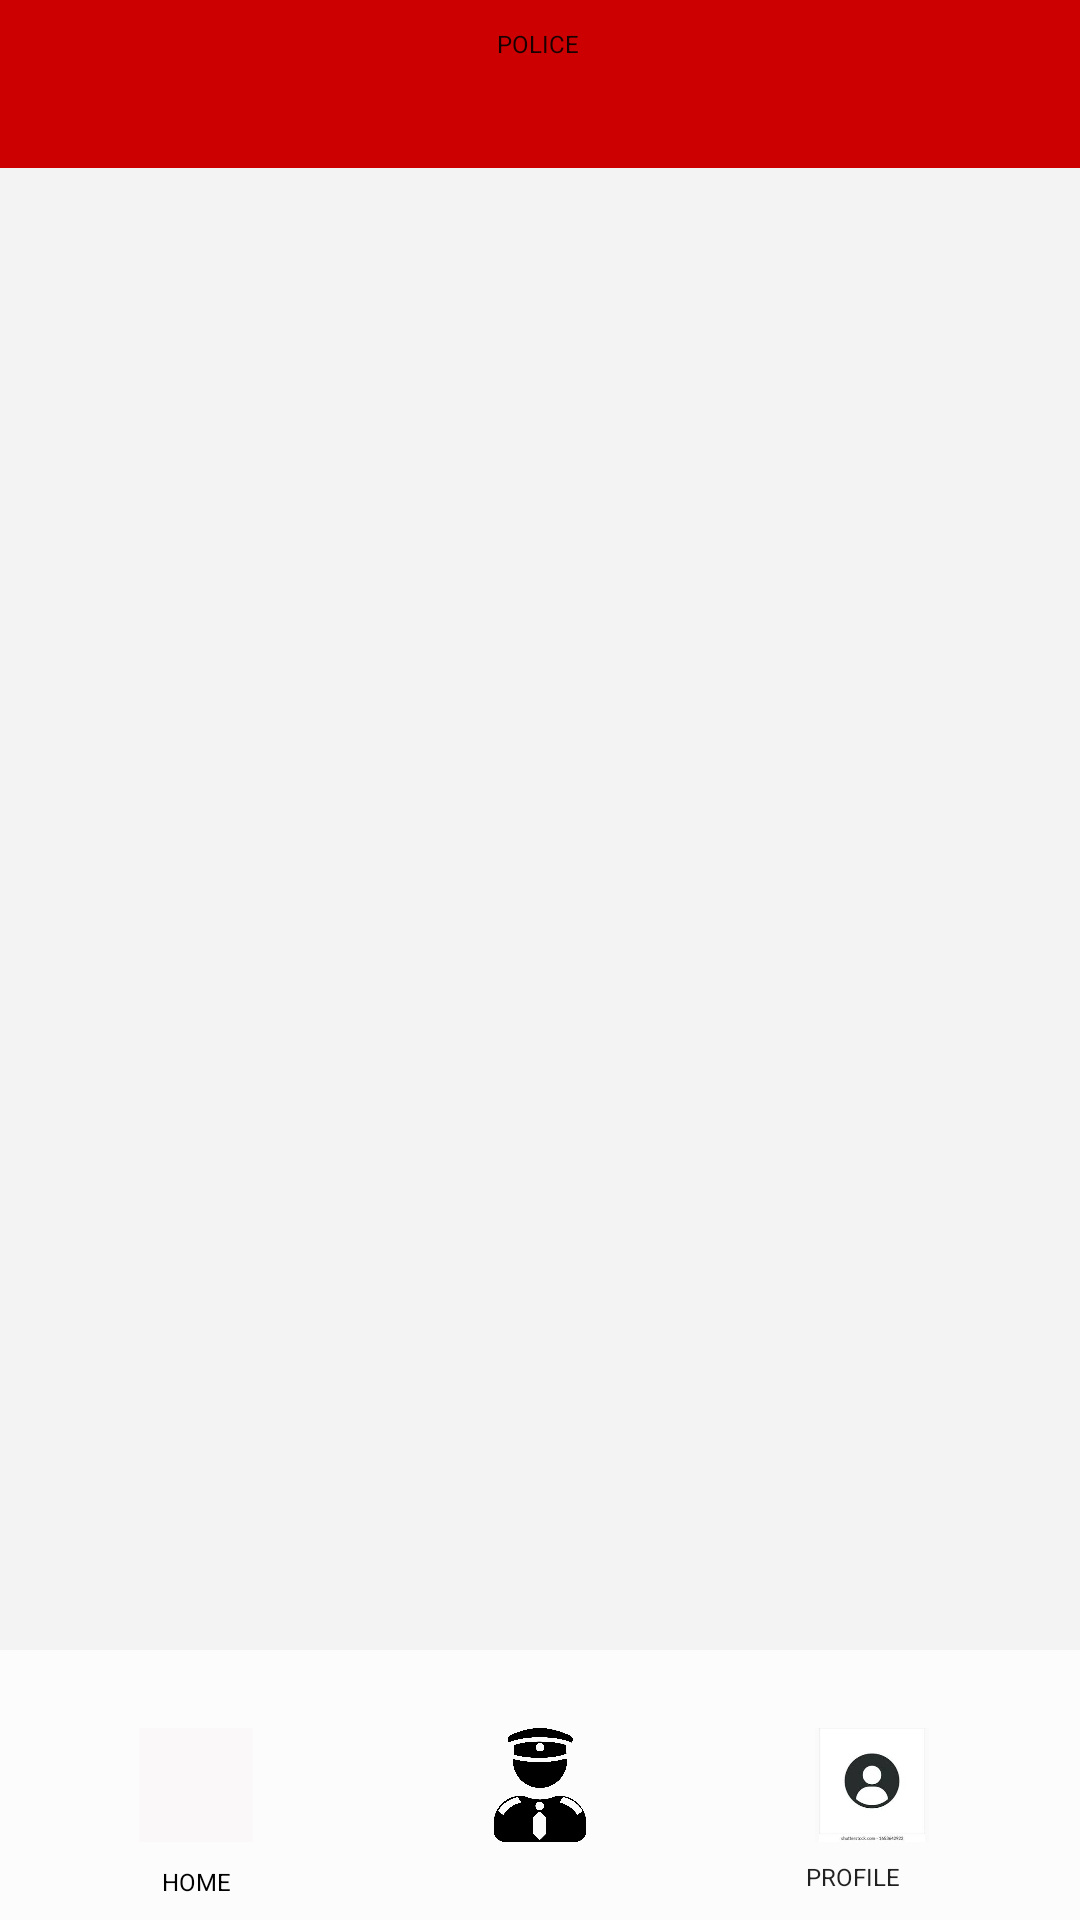

Icons on this 1080*1920 Android screen, each with its box as {"left": x1, "top": y1, "right": x2, "bottom": y2}:
police: {"left": 494, "top": 1728, "right": 586, "bottom": 1842}
